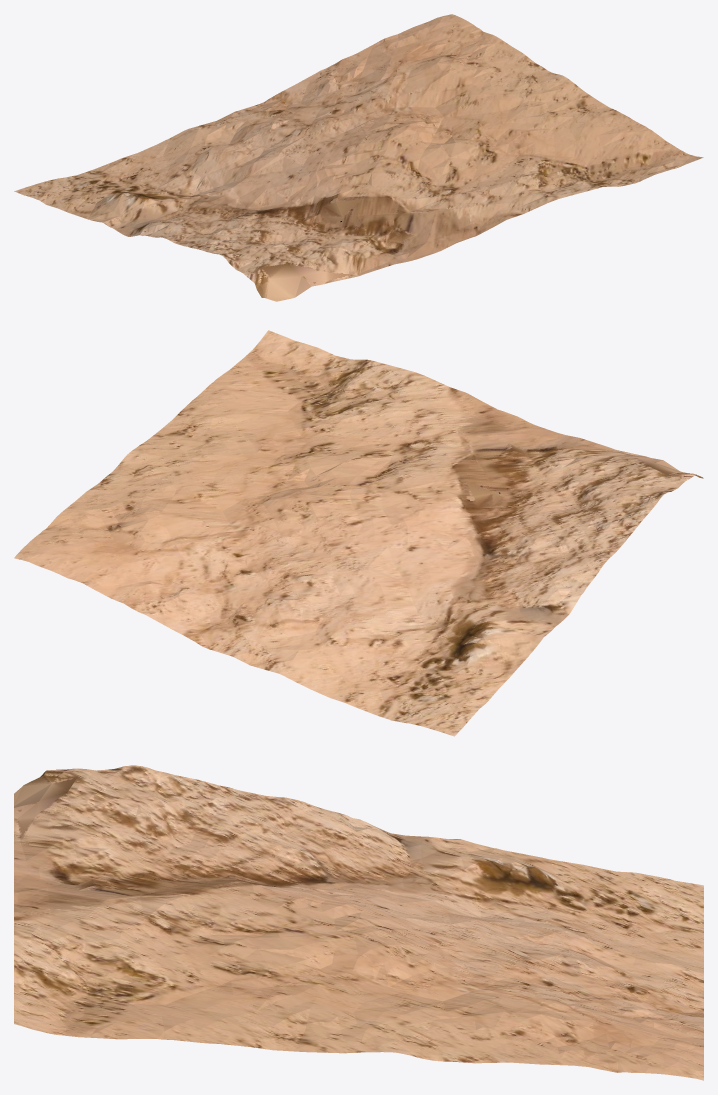
The picture shows the model from 3 angles, top to bottom: view 1: azimuth 30°, elevation 25°; view 2: azimuth 150°, elevation 25°; view 3: azimuth 270°, elevation 25°; orthographic projection. The views are drawn at different scales.
Bounding box in the file's own units: 1.04 × 0.2559 × 1.04.
Materials: 2 (2 with a texture image).
